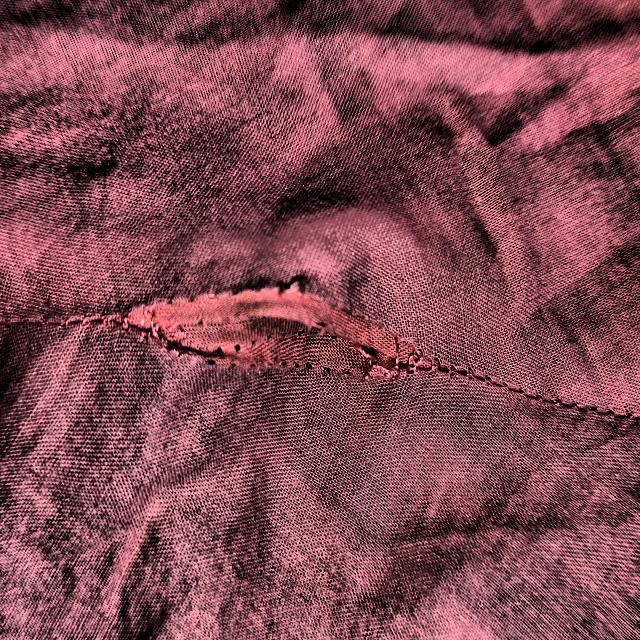seam: (95, 264, 491, 408)
